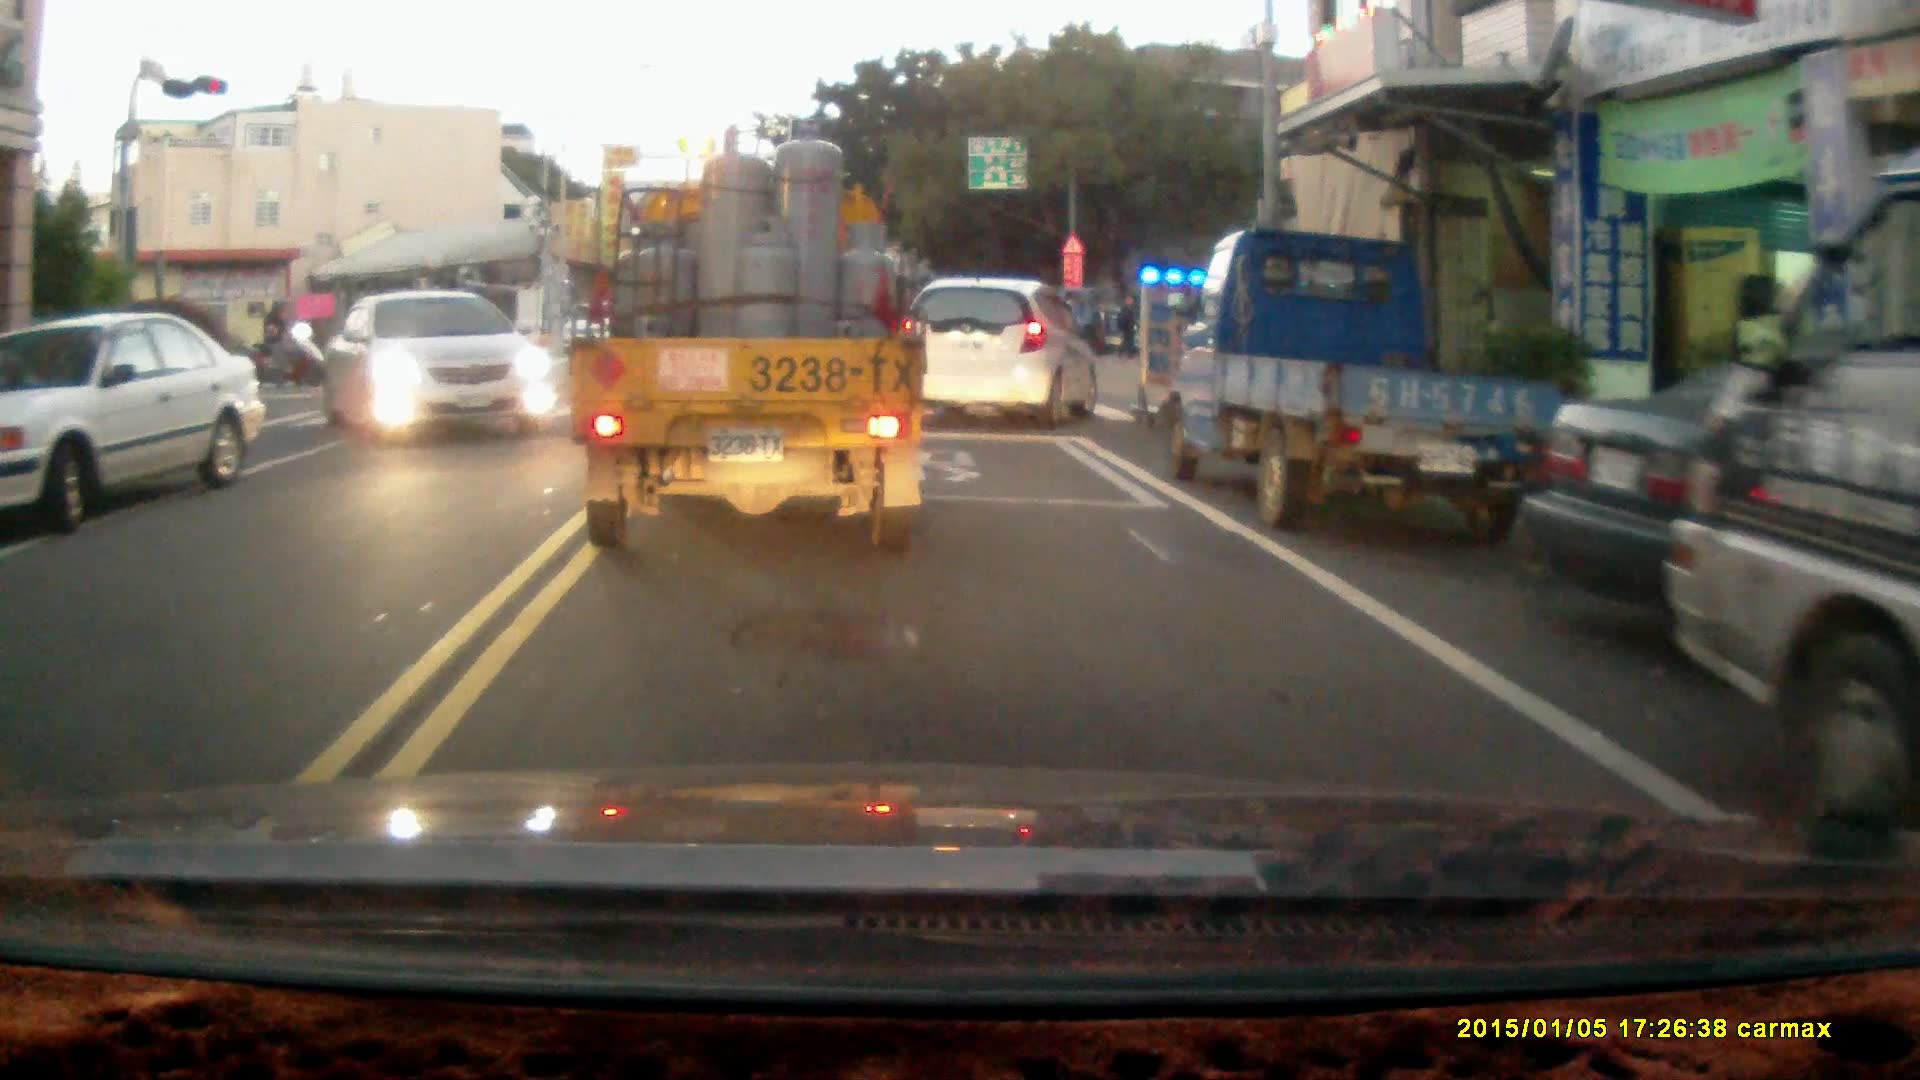rider: (240, 299, 324, 389)
vehicle: (1662, 159, 1920, 807), (567, 115, 930, 554), (1175, 228, 1563, 545), (2, 315, 261, 522), (317, 290, 557, 438), (904, 277, 1110, 426)
